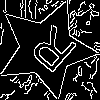R: (21, 23, 80, 82)
